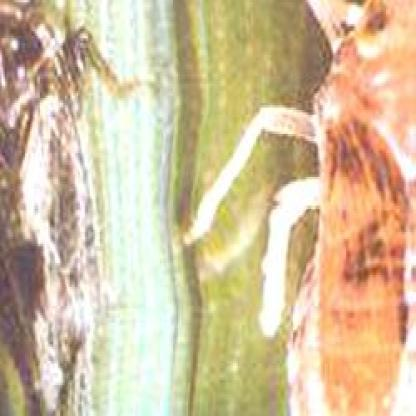brown-planthopper: (288, 38, 413, 416), (0, 0, 105, 416)
